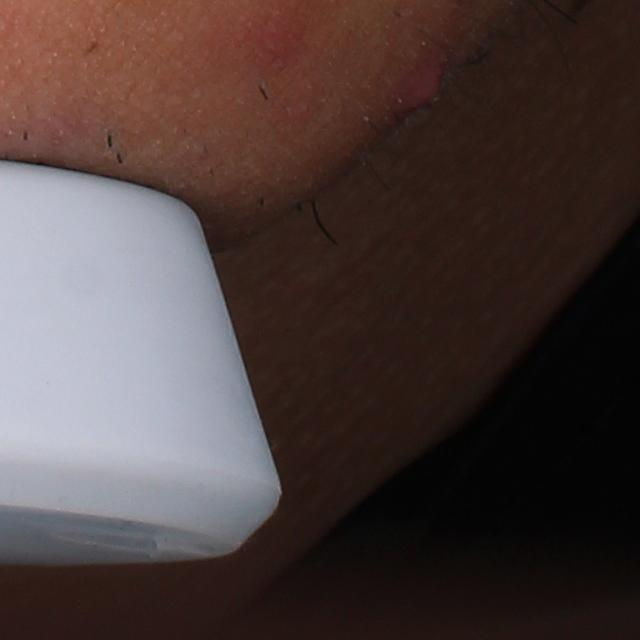papule: (387, 48, 449, 123)
